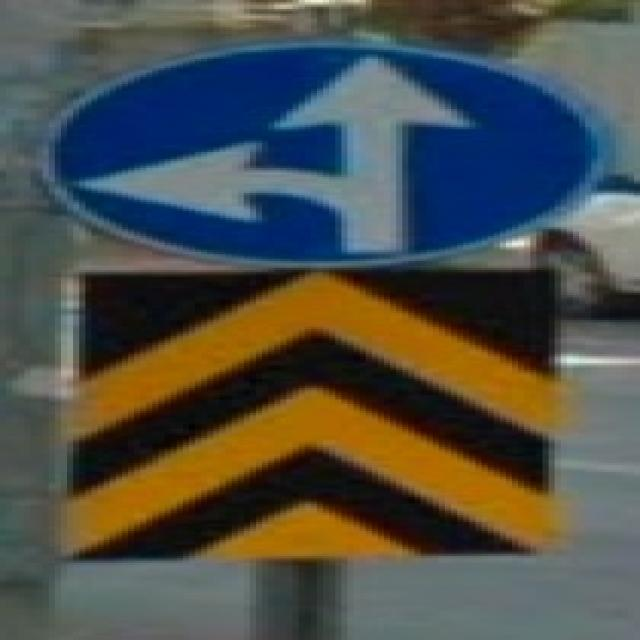Straight or Left: (35, 42, 608, 269)
